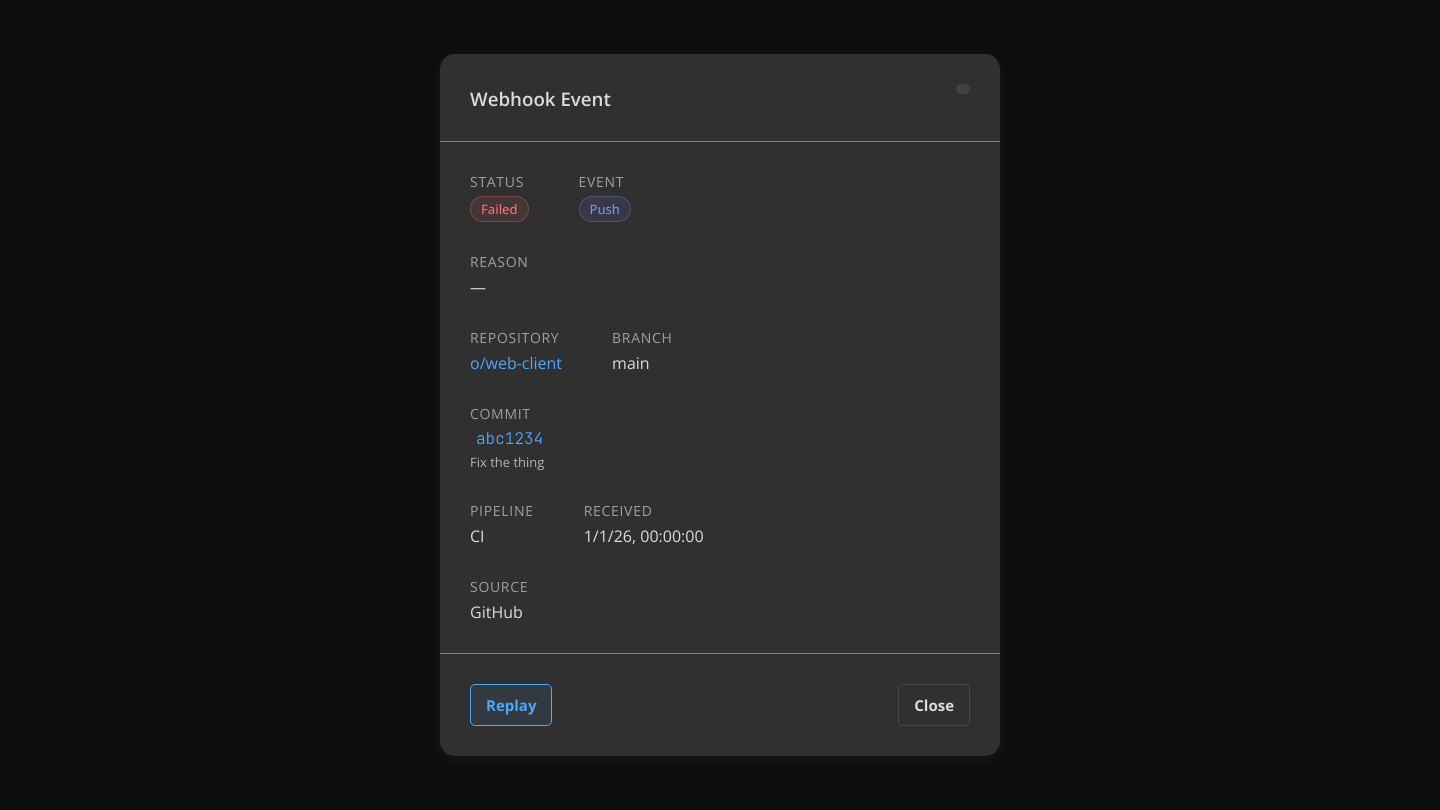
Test: replaying › confirming › toasts an error and does not navigate when the action rejects
Click the button "Replay". click: {"x": 511, "y": 705}
box: [470,684,552,726]
Wait 3500 ms
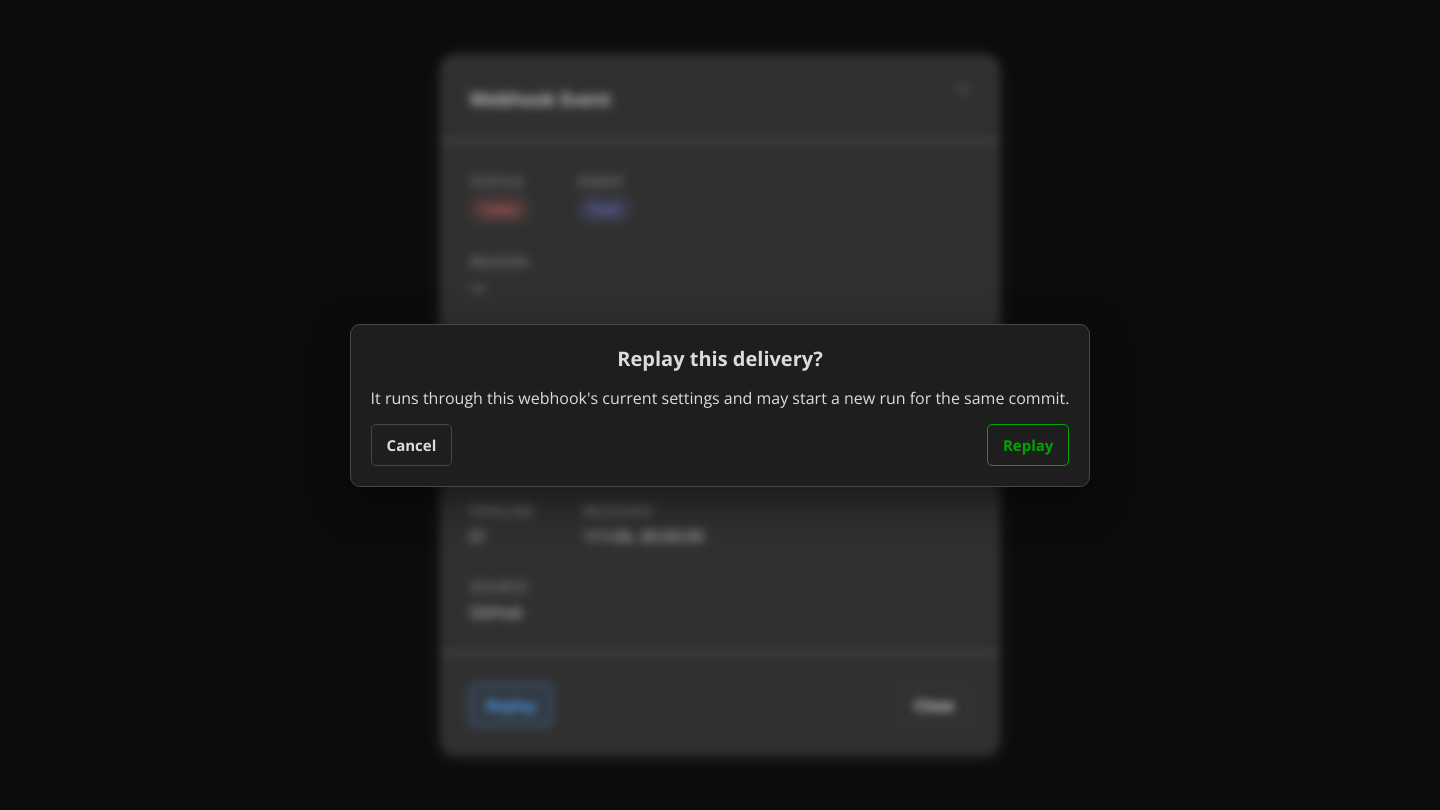
Result: the text "Replay this delivery?" is shown at [617,344,823,372]
Result: the text "may start a new run for the same commit" is shown at [371,386,1069,408]
Click the button "Replay". click: {"x": 1028, "y": 444}
box: [987,424,1069,466]
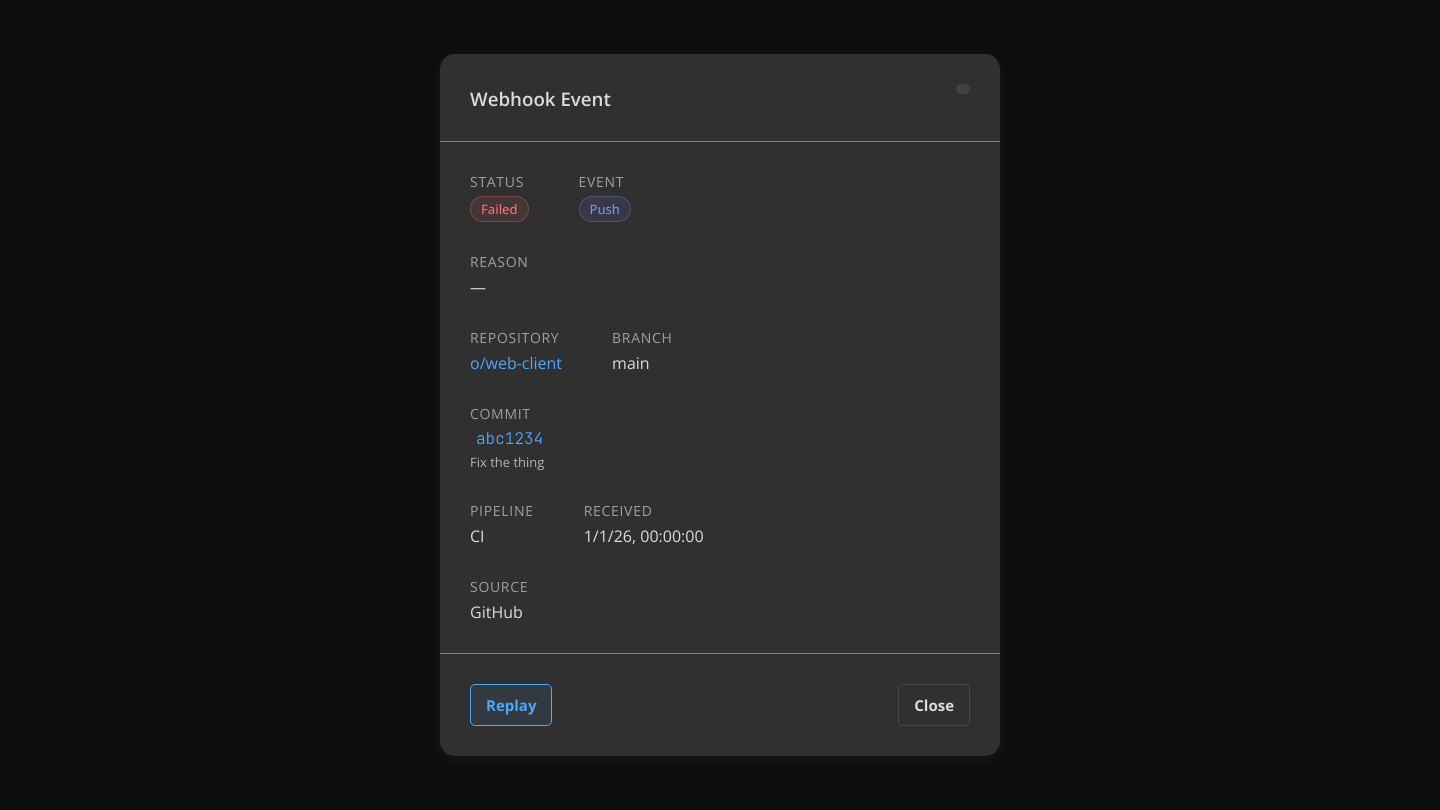
Result: the text "Replay this delivery?" is gone
